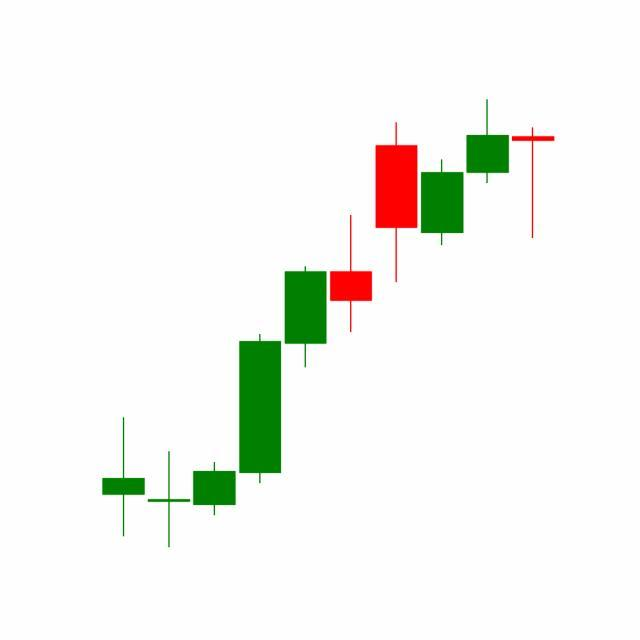Hikkake Pattern: (283, 99, 512, 372)
